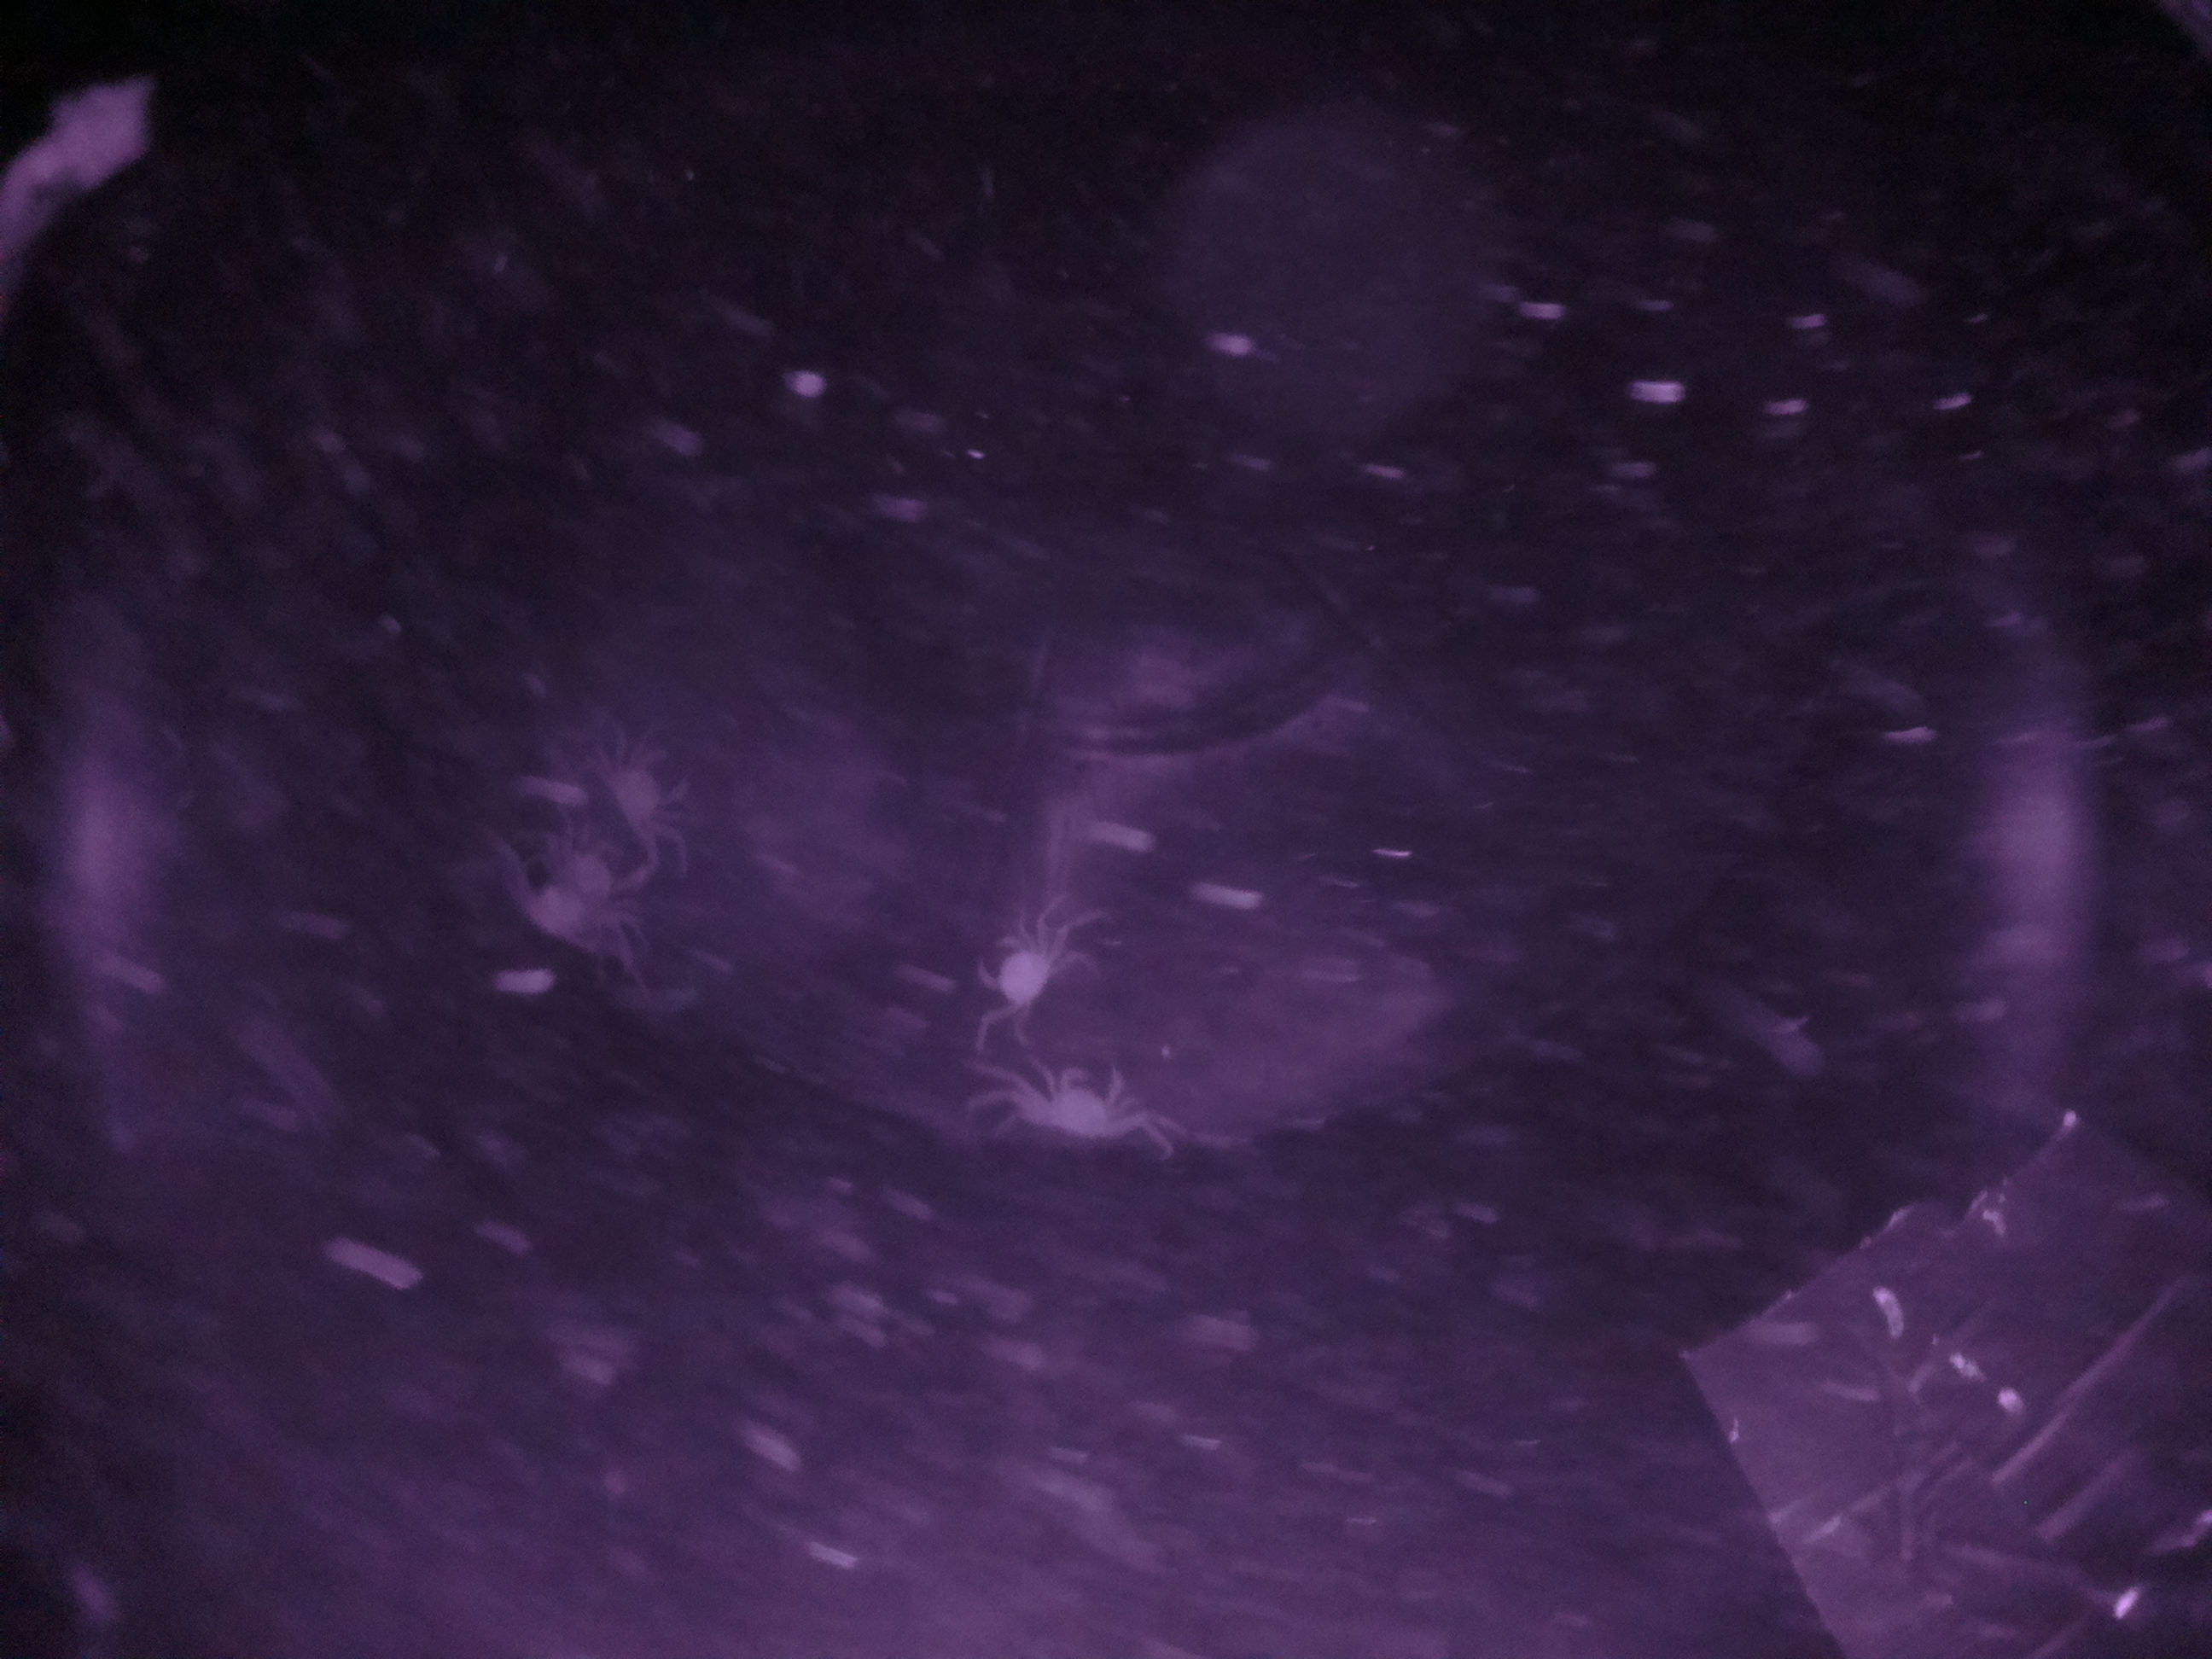Crab: (596, 727, 707, 859), (1026, 1047, 1148, 1164), (958, 920, 1080, 1035)
